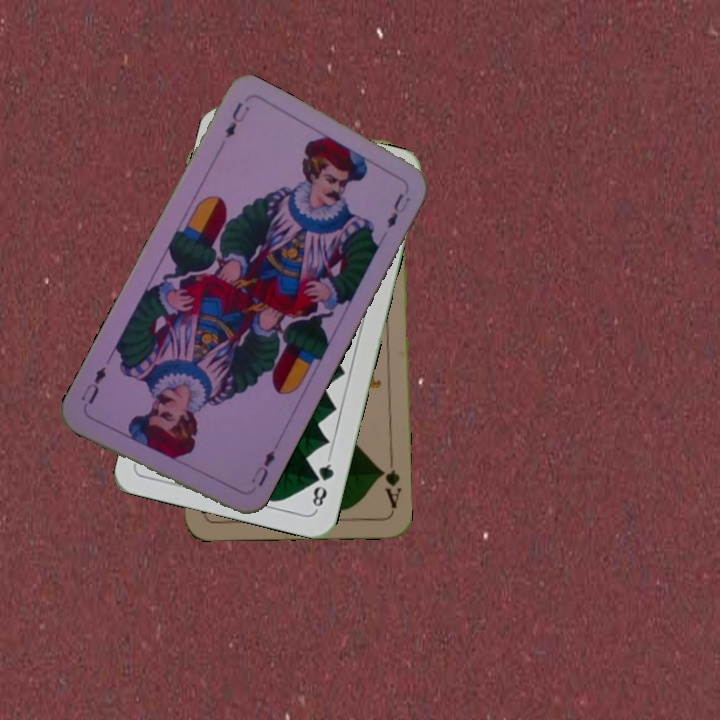EU: (221, 98, 253, 141), (247, 446, 278, 489)
G8: (308, 454, 337, 513)
GA: (376, 453, 403, 510)
